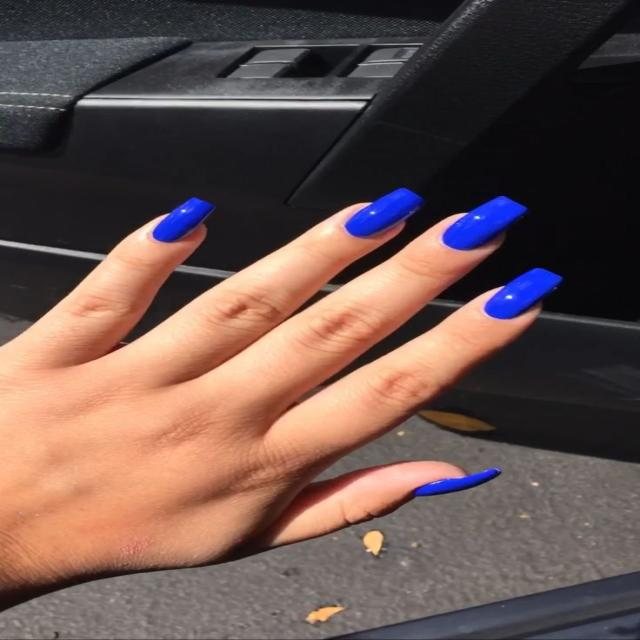Nail: (442, 196, 527, 250), (485, 268, 562, 318), (345, 189, 425, 237), (153, 198, 216, 242), (414, 468, 502, 496)
